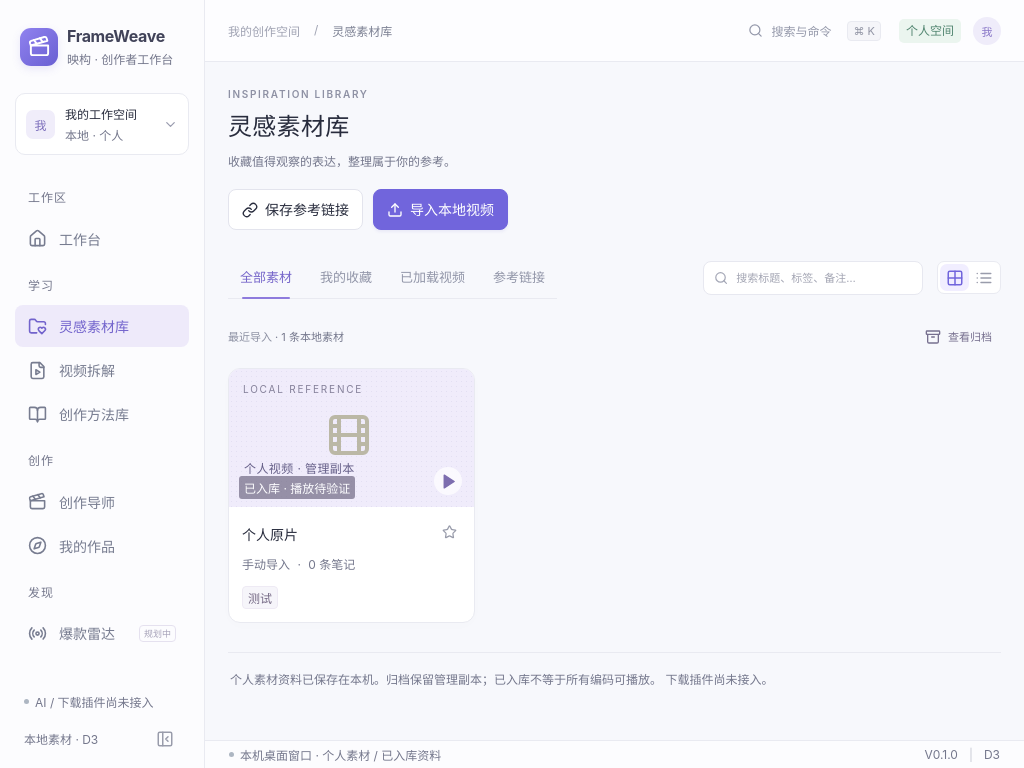
Test case: D3个人素材接线（组件证据，不是原生UI或SQLite证据） › 保存失败保留输入，并且只有Rust成功回应才显示已保存
This screenshot has width=1024, height=768.
Click the button "个人原片".
click(337, 535)  # box [242,520,432,550]
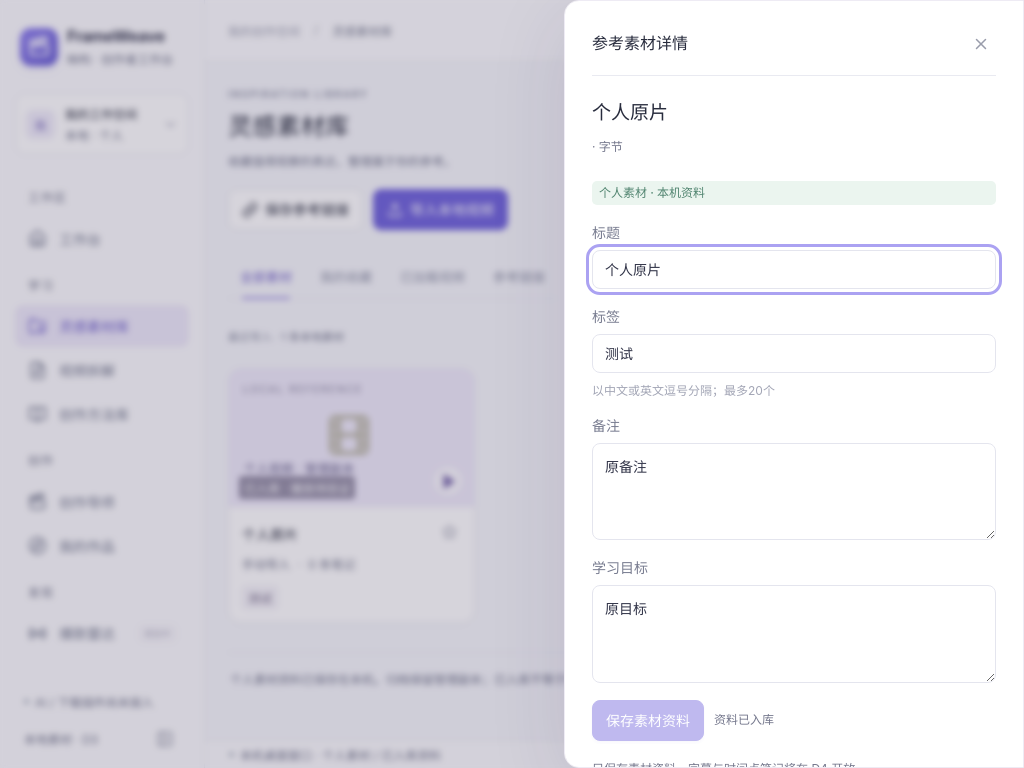
Replace the text in the field labelled "标题" with "中文😀<img src=x>" at (794, 269), box [592,250,996,289]
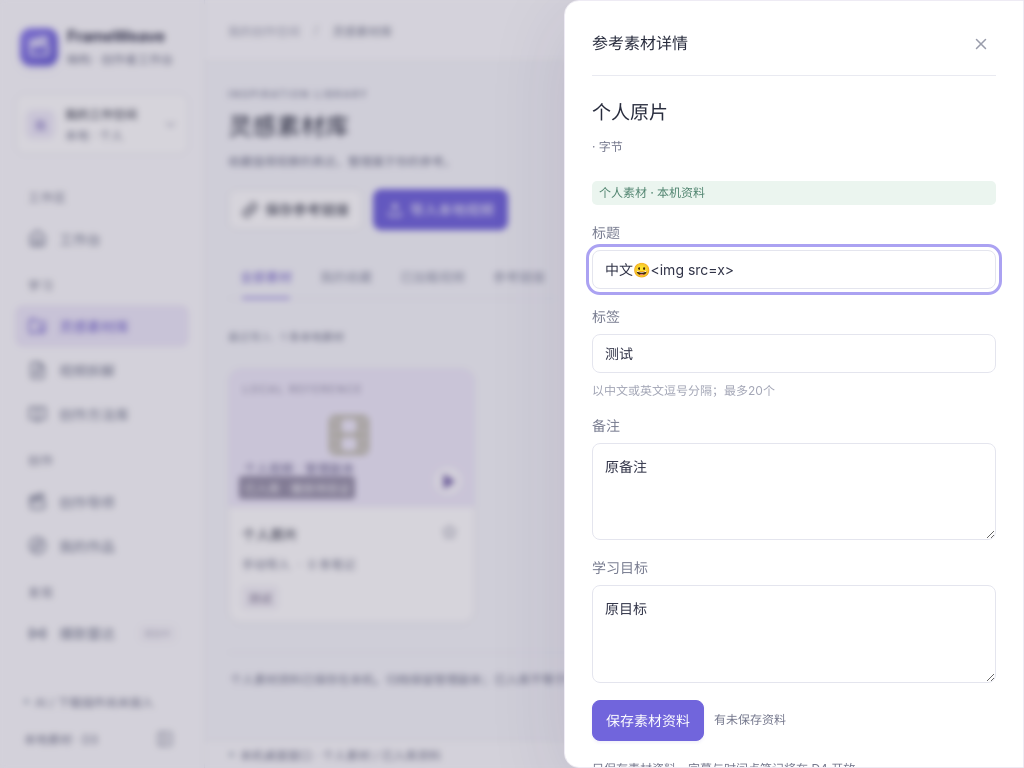
Click the button "保存素材资料".
click(648, 720)  # box [592,700,704,741]
(page scrolled)
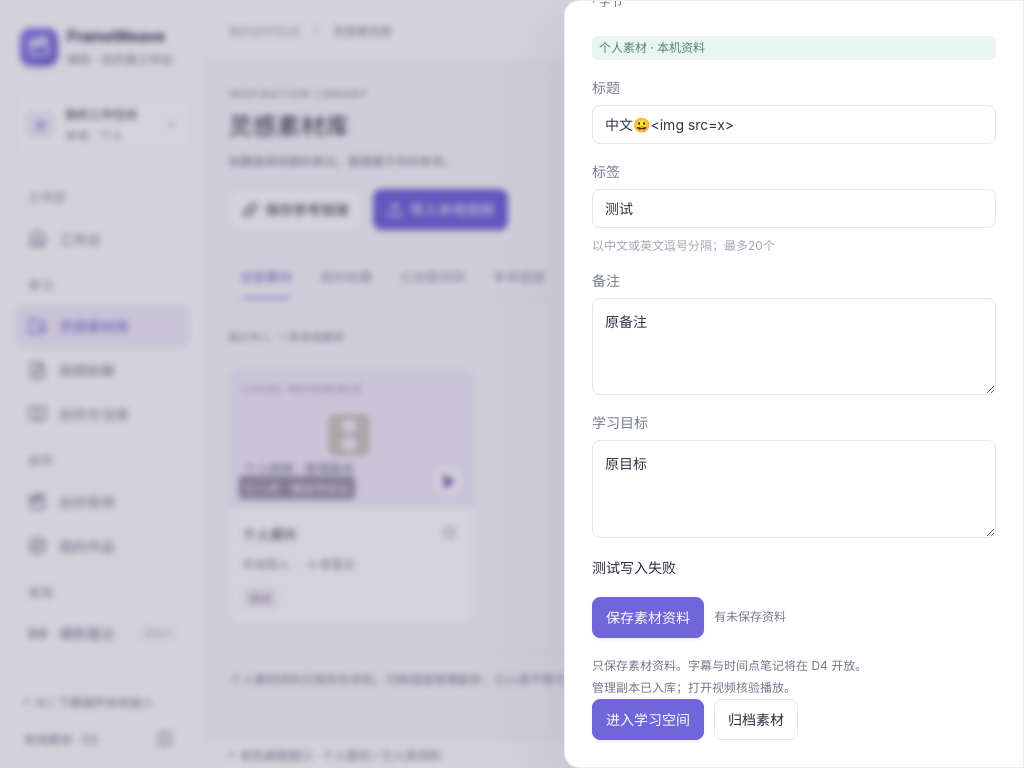
Expected: the text "已保存到本机" is not shown
Expected: the message "测试写入失败" is shown, [592,559,676,576]
Click the button "保存素材资料".
click(648, 617)  # box [592,597,704,638]
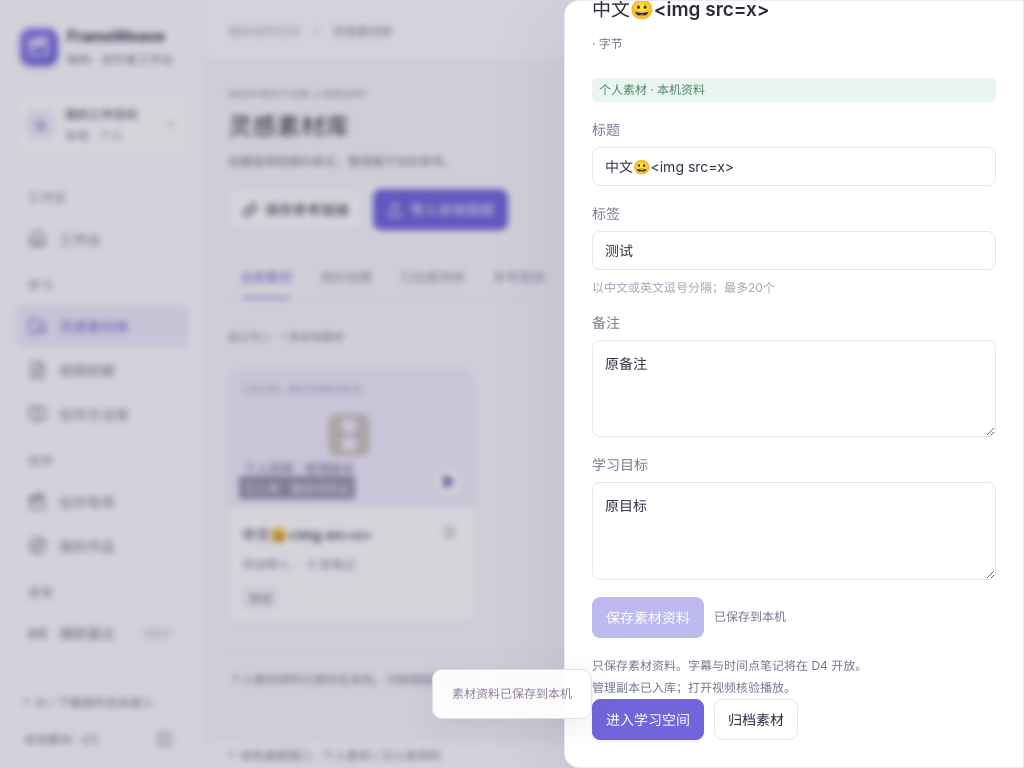
Expected: the text "已保存到本机" is shown, [714,606,786,628]
